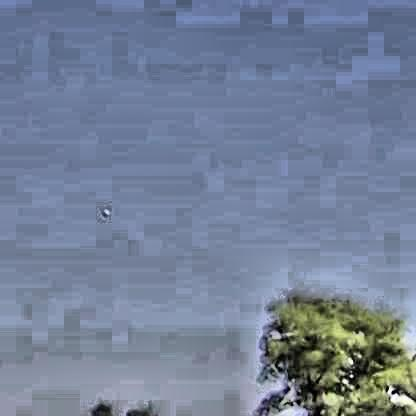golfball: (98, 207, 106, 214)
